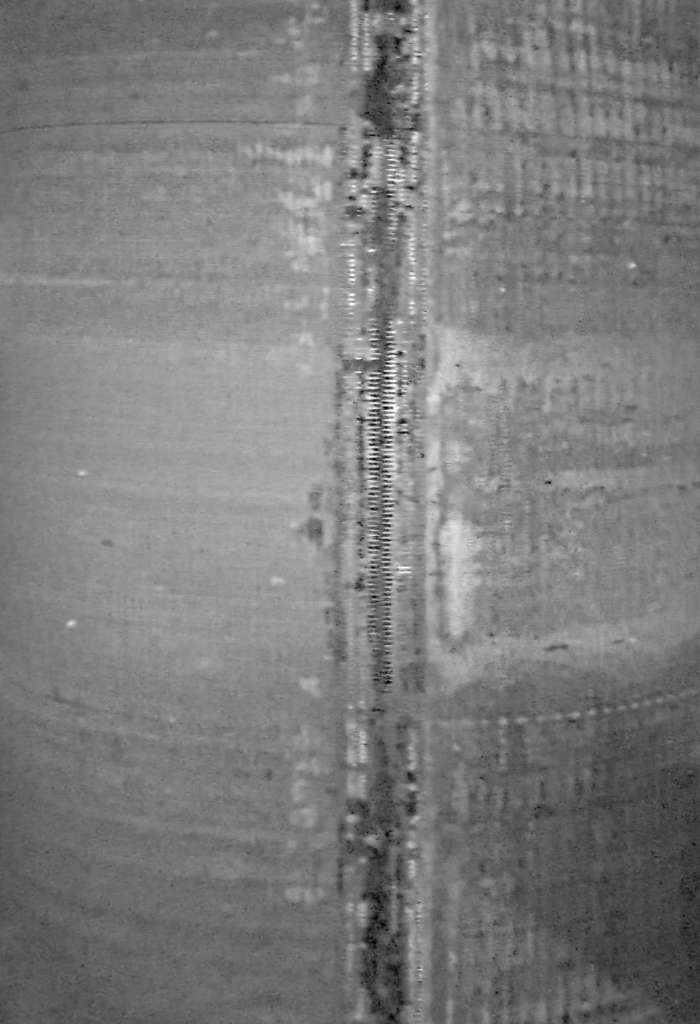splice: (328, 2, 444, 1024)
